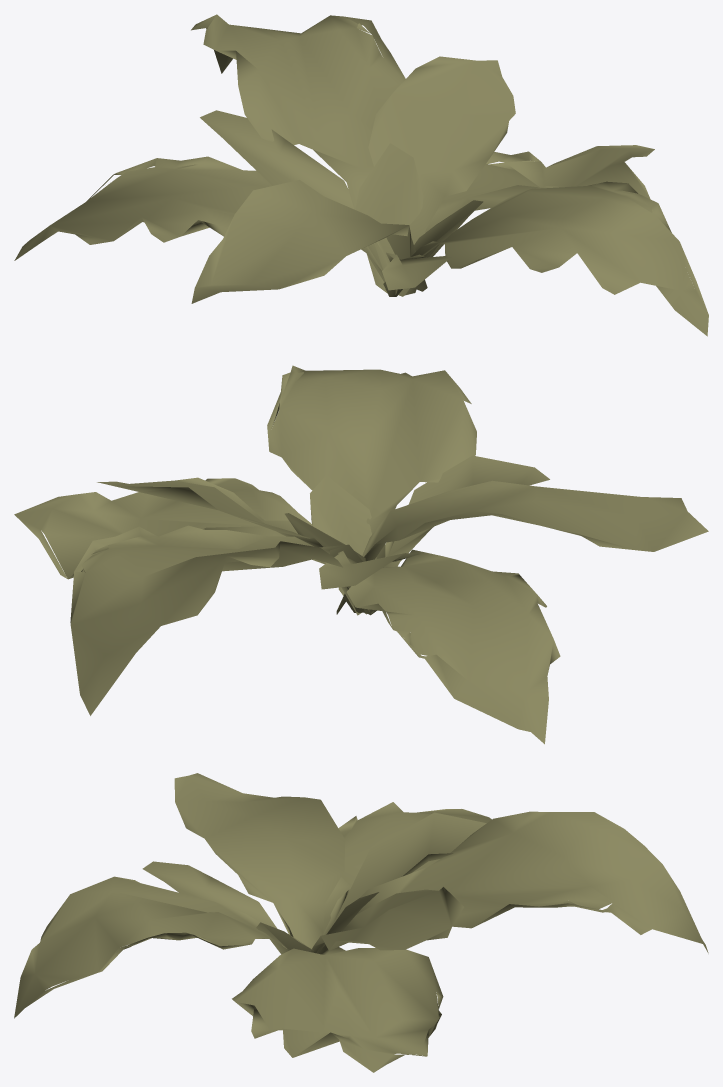
File: iceplant-lod1.glb
3 renders of one model, top to bottom at view 1: azimuth 30°, elevation 25°; view 2: azimuth 150°, elevation 25°; view 3: azimuth 270°, elevation 25°, orthographic. The views are drawn at different scales.
Visible parts, largest first — view 1: iceplant; view 2: iceplant; view 3: iceplant.
Boxes of the visible parts, x1,y1,x2,y2 form: iceplant: (14,14,708,336); iceplant: (14,365,708,744); iceplant: (14,773,708,1072).
Size of the model in its own units: 0.7502 by 0.2211 by 0.854.
